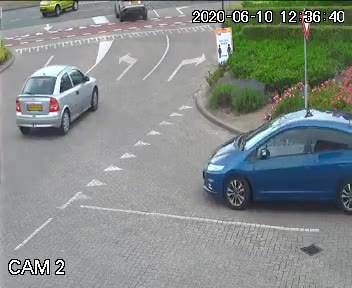car: (200, 96, 352, 217), (12, 60, 110, 136), (35, 0, 83, 22), (109, 0, 149, 26)
